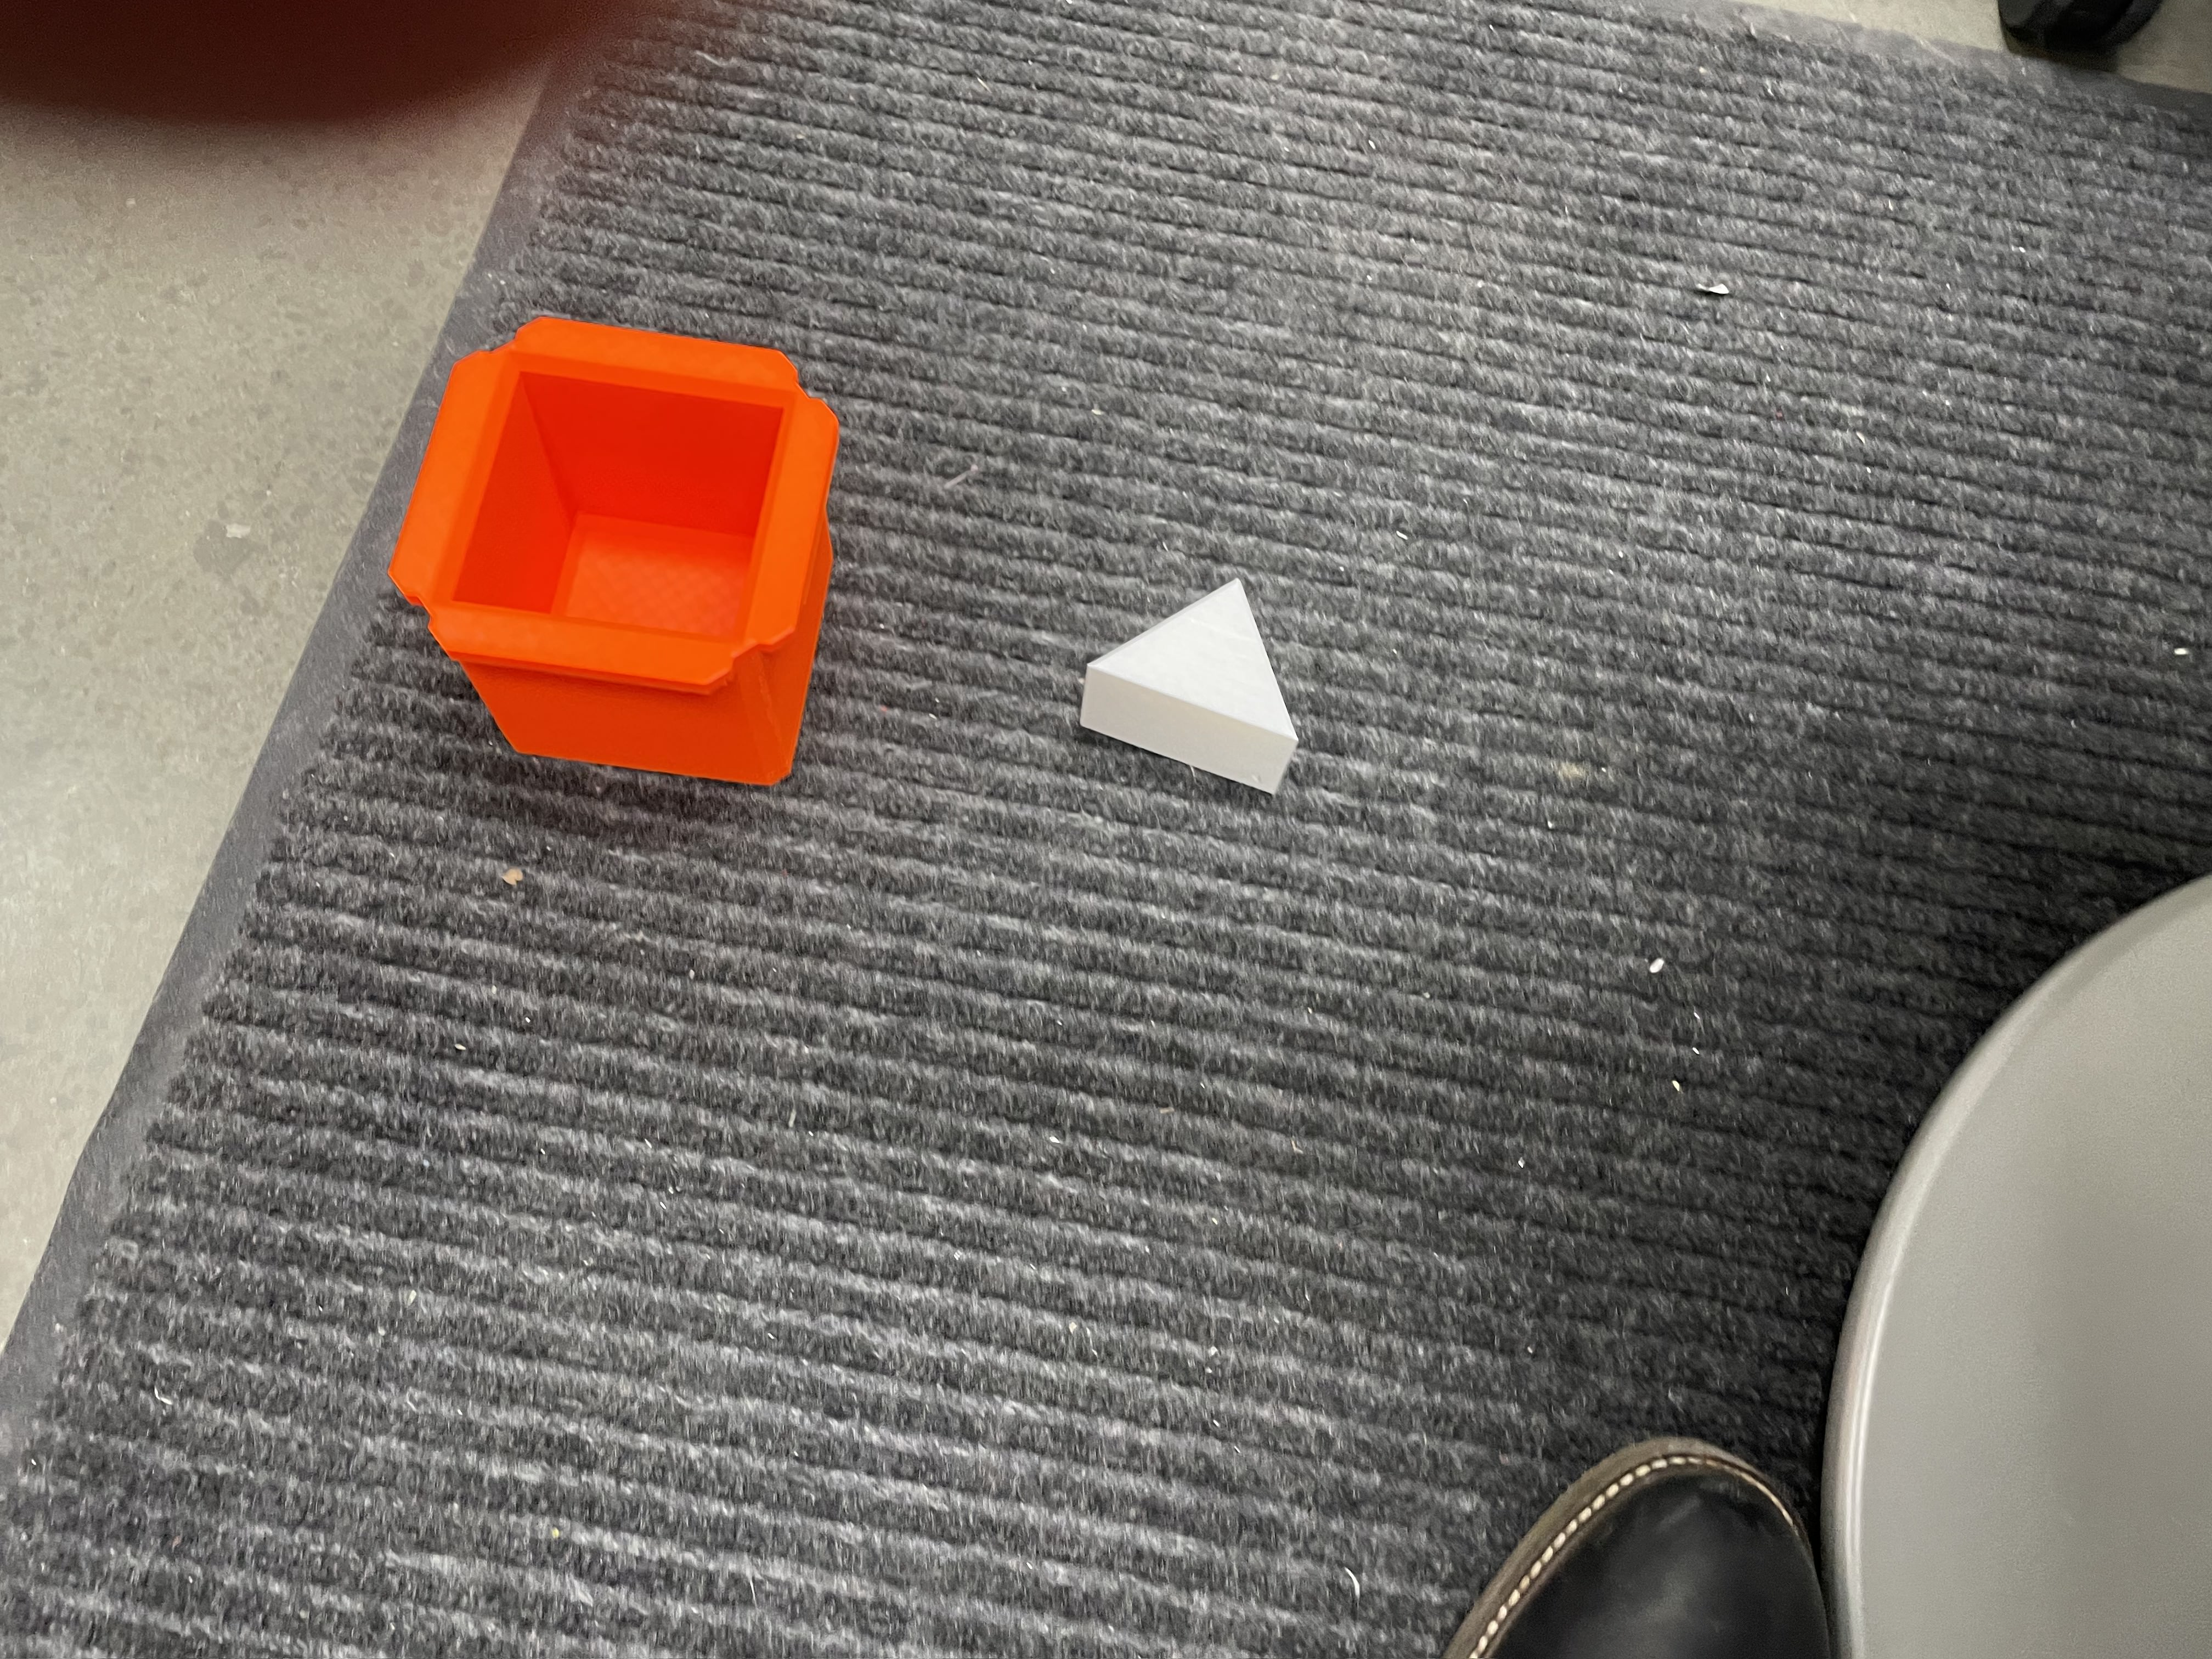payload1: (368, 305, 864, 835)
payload2: (1064, 554, 1331, 847)
